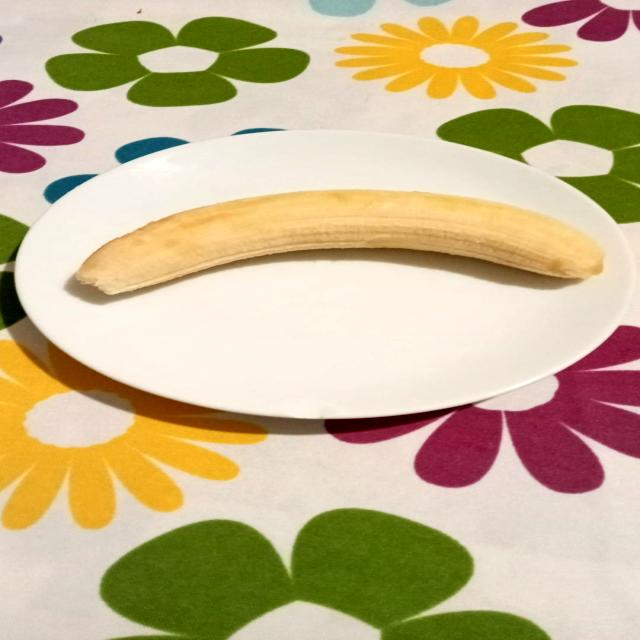banana: (57, 175, 626, 318)
